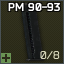PM 9x18PM 90-93 8-round magazine: (0, 0, 64, 64)
